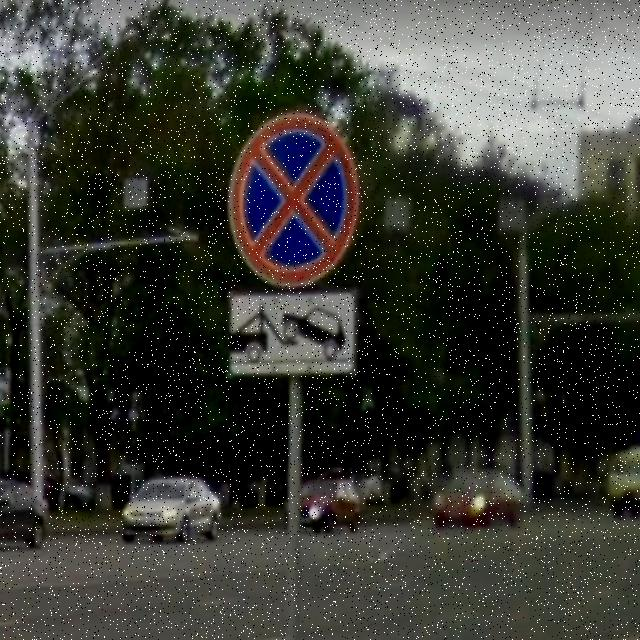Zakaz zatrzymywania sie: (223, 108, 361, 290)
